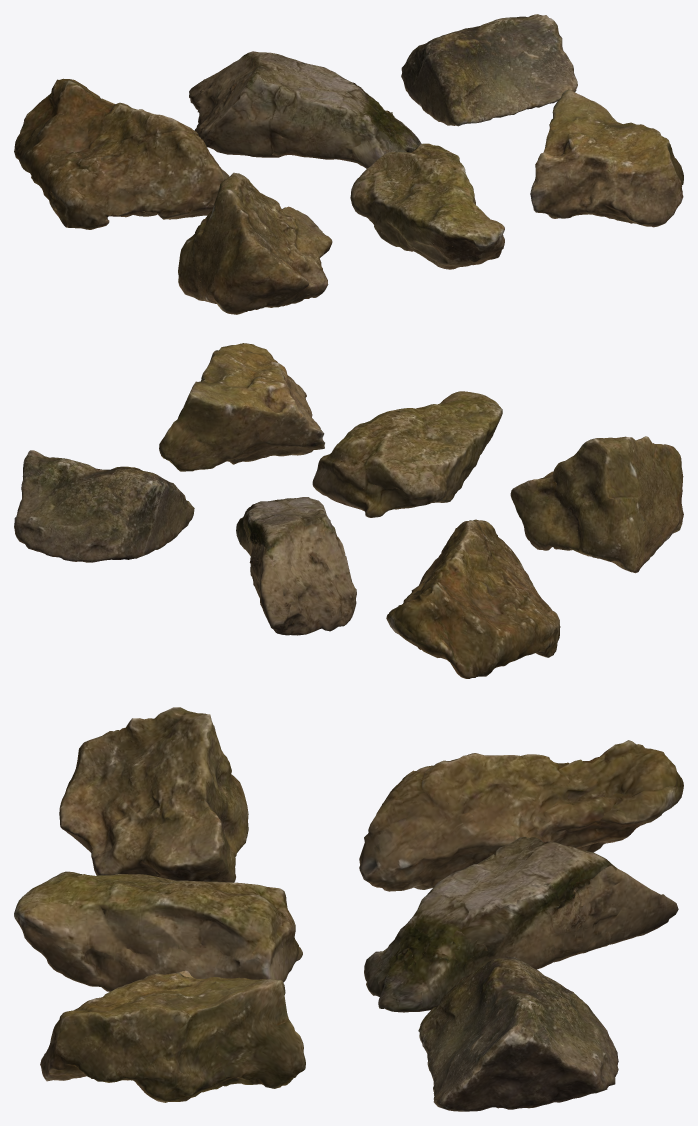
File: rock_moss_set_01.glb
3 views of the same model, one above another, from view 1: azimuth 30°, elevation 25°; view 2: azimuth 150°, elevation 25°; view 3: azimuth 270°, elevation 25° (orthographic). The views are drawn at different scales.
Visible parts, largest first — view 1: rock_moss_set_01_rock01, rock_moss_set_01_rock02, rock_moss_set_01_rock06, rock_moss_set_01_rock04, rock_moss_set_01_rock03, rock_moss_set_01_rock05; view 2: rock_moss_set_01_rock04, rock_moss_set_01_rock01, rock_moss_set_01_rock05, rock_moss_set_01_rock03, rock_moss_set_01_rock06, rock_moss_set_01_rock02; view 3: rock_moss_set_01_rock01, rock_moss_set_01_rock02, rock_moss_set_01_rock05, rock_moss_set_01_rock04, rock_moss_set_01_rock06, rock_moss_set_01_rock03.
Boxes of the visible parts, x1,y1,x2,y2 form: rock_moss_set_01_rock01: (14,78,229,229); rock_moss_set_01_rock02: (189,51,421,168); rock_moss_set_01_rock06: (530,89,683,227); rock_moss_set_01_rock04: (178,172,332,314); rock_moss_set_01_rock03: (401,14,577,126); rock_moss_set_01_rock05: (350,143,504,269); rock_moss_set_01_rock04: (510,436,683,573); rock_moss_set_01_rock01: (386,519,560,678); rock_moss_set_01_rock05: (312,391,502,517); rock_moss_set_01_rock03: (14,450,194,562); rock_moss_set_01_rock06: (159,343,324,471); rock_moss_set_01_rock02: (236,497,356,635); rock_moss_set_01_rock01: (359,740,683,891); rock_moss_set_01_rock02: (364,836,678,1012); rock_moss_set_01_rock05: (14,871,302,991); rock_moss_set_01_rock04: (59,707,248,882); rock_moss_set_01_rock06: (40,970,305,1102); rock_moss_set_01_rock03: (418,956,618,1111).
Bounding box in the file's own units: 8.01 × 1.77 × 6.95.
Materials: 1 (1 with a texture image).
